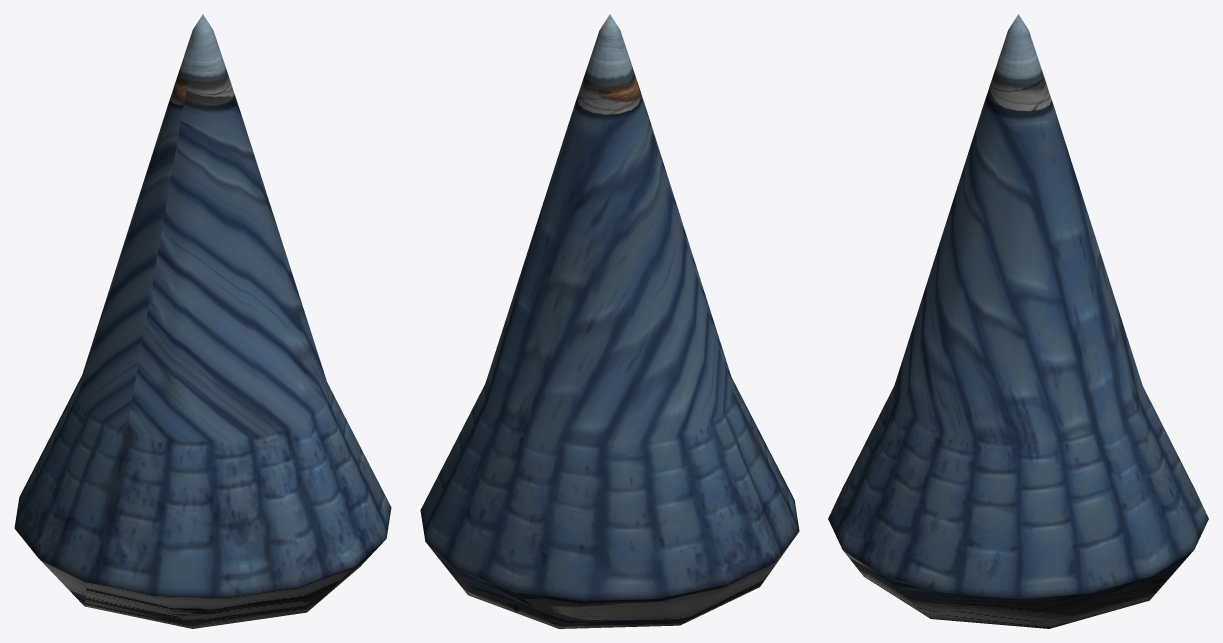
File: sb_obj_outdoor002_DemonsCastle01_CircleWallTop00_col.fbx
The picture shows the model from 3 angles, left to right: view 1: azimuth 30°, elevation 25°; view 2: azimuth 150°, elevation 25°; view 3: azimuth 270°, elevation 25°; orthographic projection.
Visible parts, largest first — view 1: sb_obj_outdoor002_DemonsCastle01_CircleWallTop00_col; view 2: sb_obj_outdoor002_DemonsCastle01_CircleWallTop00_col; view 3: sb_obj_outdoor002_DemonsCastle01_CircleWallTop00_col.
Part boxes in pixels (x1=…): sb_obj_outdoor002_DemonsCastle01_CircleWallTop00_col: x1=14, y1=14, x2=391, y2=628; sb_obj_outdoor002_DemonsCastle01_CircleWallTop00_col: x1=420, y1=14, x2=799, y2=628; sb_obj_outdoor002_DemonsCastle01_CircleWallTop00_col: x1=828, y1=14, x2=1208, y2=628.
Bounding box in the file's own units: 3.72 × 5.92 × 3.72.
